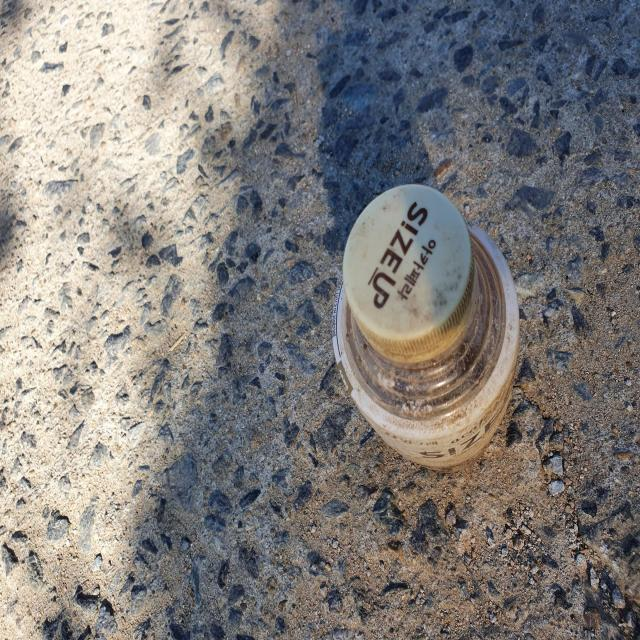plastic: (333, 184, 520, 470)
